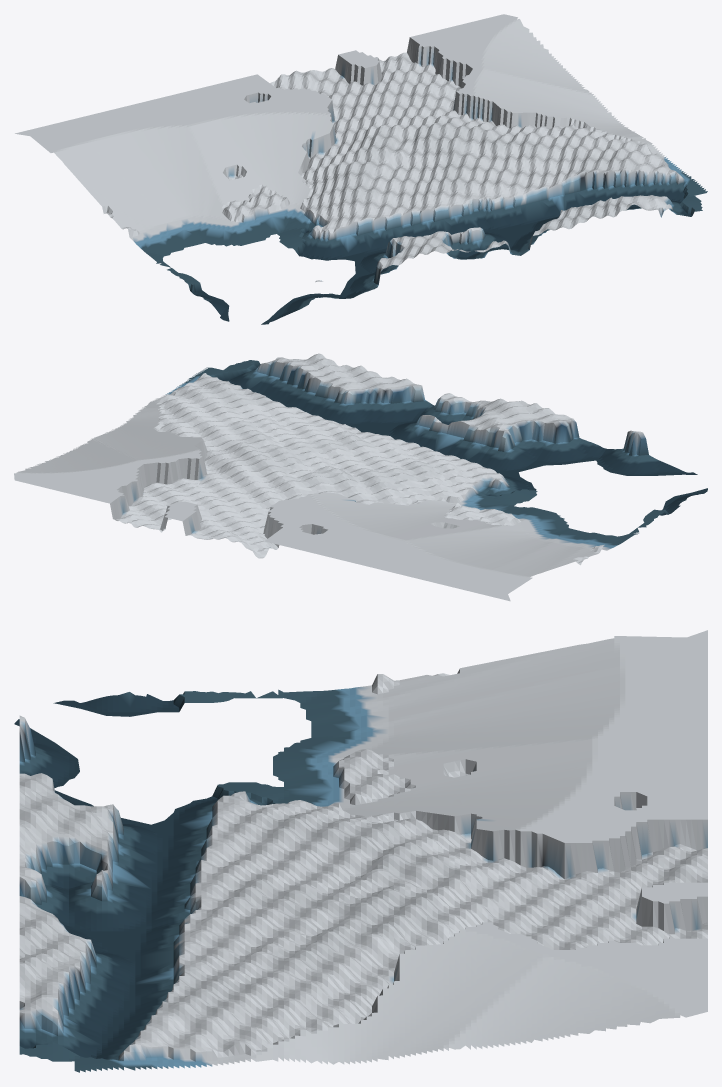
The model's file is frost_tile_x2z0.glb.
3 renders of one model, top to bottom at view 1: azimuth 30°, elevation 25°; view 2: azimuth 150°, elevation 25°; view 3: azimuth 270°, elevation 25°, orthographic. The views are drawn at different scales.
Parts seen in each view (by area): view 1: geometry_0; view 2: geometry_0; view 3: geometry_0.
Part boxes in pixels (box(x1,y1,x2,y2)): geometry_0: box(15, 14, 707, 324); geometry_0: box(14, 353, 707, 601); geometry_0: box(14, 630, 707, 1072).
Size of the model in its own units: 1001 by 78 by 756.
